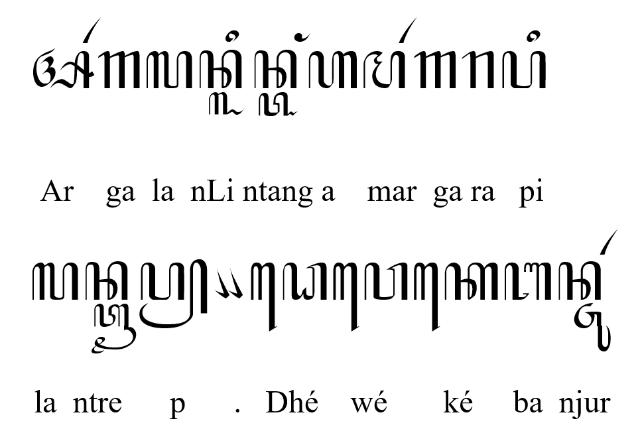-p: (139, 258, 209, 330)
A: (32, 48, 94, 88)
_ju: (574, 302, 612, 352)
_l: (208, 91, 246, 115)
_r1: (398, 14, 418, 44), (82, 16, 101, 44), (600, 229, 618, 255)
_t: (258, 93, 298, 117)
b: (503, 262, 552, 300)
dh: (282, 262, 328, 300)
e1: (250, 262, 278, 332), (332, 262, 360, 332), (414, 262, 441, 332)
g: (413, 50, 457, 90), (98, 51, 140, 89)
h: (308, 51, 358, 89)
i: (224, 30, 240, 42), (526, 30, 540, 42)
k: (444, 262, 498, 300)
kom: (213, 268, 229, 298), (227, 268, 243, 298)
l: (31, 262, 79, 300), (146, 50, 192, 88)
m: (362, 50, 406, 88)
n: (199, 49, 243, 89), (253, 50, 297, 90), (84, 260, 128, 300), (558, 262, 602, 300)
ng: (294, 32, 310, 42)
p: (500, 50, 548, 90)
r: (461, 50, 495, 90)
tre: (91, 303, 137, 355)
w: (364, 262, 408, 300)
